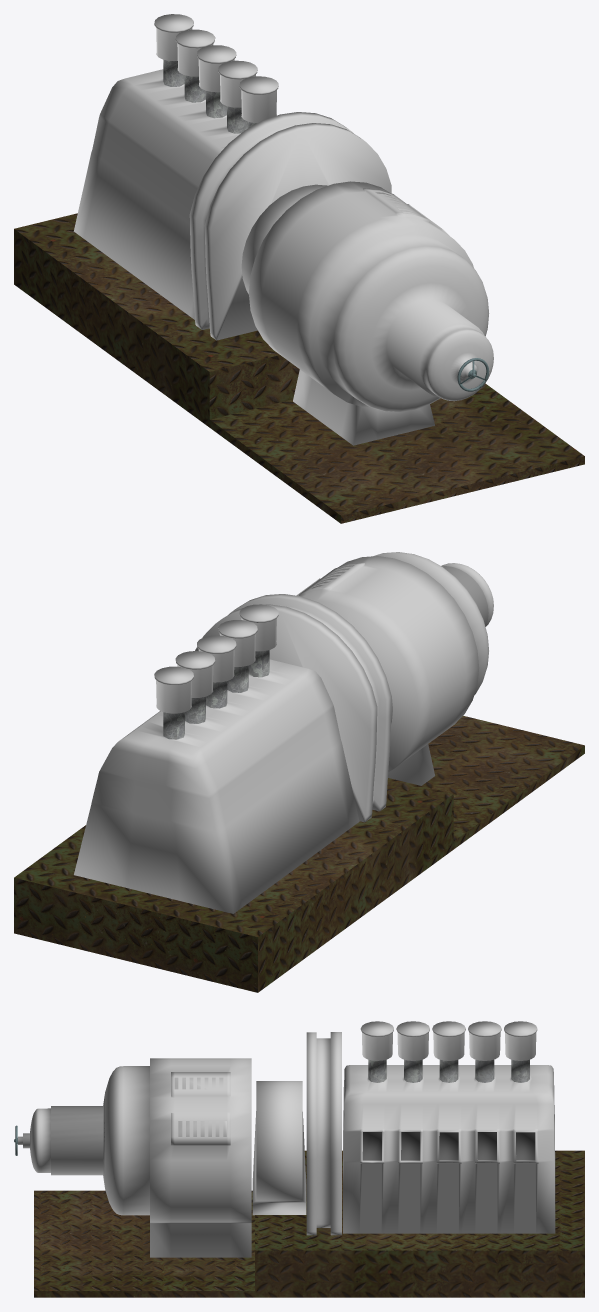
The model's file is gerador4.fbx.
3 renders of one model, top to bottom at view 1: azimuth 30°, elevation 25°; view 2: azimuth 150°, elevation 25°; view 3: azimuth 270°, elevation 25°, orthographic. The views are drawn at different scales.
Parts seen in each view (by area): view 1: gerador4; view 2: gerador4; view 3: gerador4.
Boxes of the visible parts, left/top/right/bottom form: gerador4: left=14, top=14, right=584, bottom=523; gerador4: left=14, top=552, right=584, bottom=992; gerador4: left=14, top=1021, right=584, bottom=1297.
Size of the model in its own units: 200 by 204 by 481.
